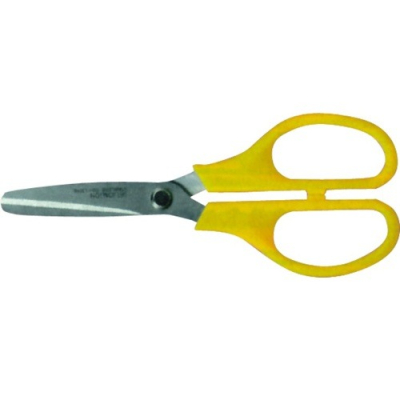scissors: (1, 112, 397, 279)
